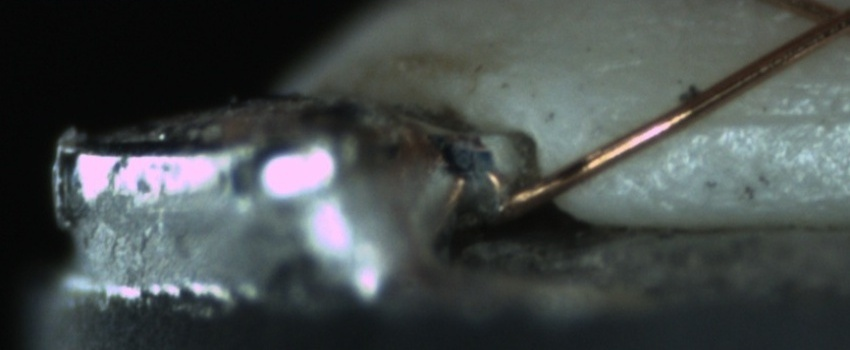CL: (794, 0, 850, 46)
DL: (694, 84, 850, 150)
